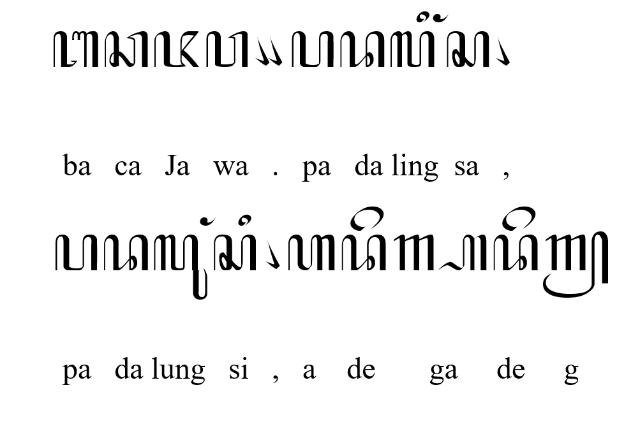-g: (542, 231, 610, 299)
_h: (437, 233, 487, 270)
b: (52, 30, 98, 68)
c: (104, 30, 148, 68)
d: (339, 30, 385, 68), (103, 234, 149, 272), (341, 234, 387, 272), (492, 235, 538, 273)
e: (350, 206, 384, 232), (502, 206, 536, 232)
g: (393, 234, 435, 272)
h: (287, 235, 335, 271)
i: (416, 10, 430, 24), (238, 214, 252, 226)
j: (153, 30, 200, 68)
kom: (254, 36, 270, 66), (495, 36, 511, 66), (264, 239, 280, 269), (268, 36, 282, 66)
l: (389, 30, 435, 68)
lu: (154, 234, 208, 302)
ng: (432, 12, 448, 22), (199, 216, 215, 226)
p: (55, 233, 99, 270), (292, 30, 334, 68)
s: (446, 30, 490, 68), (213, 234, 257, 272)
w: (205, 30, 249, 68)
